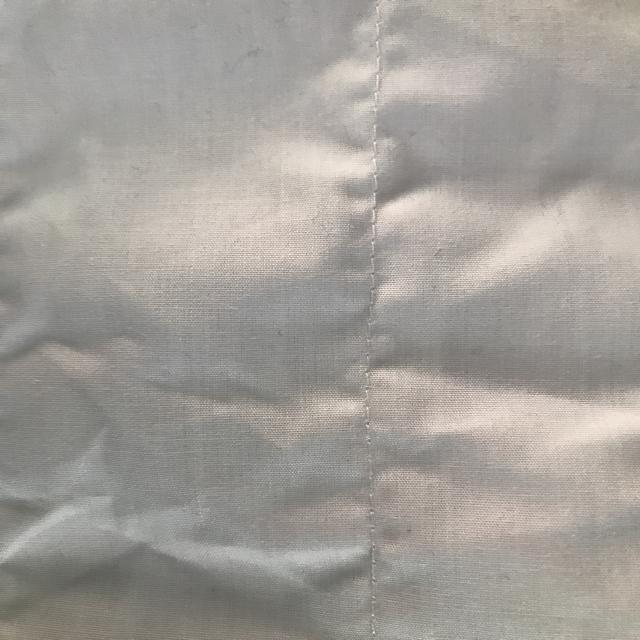good: (360, 205, 401, 256)
